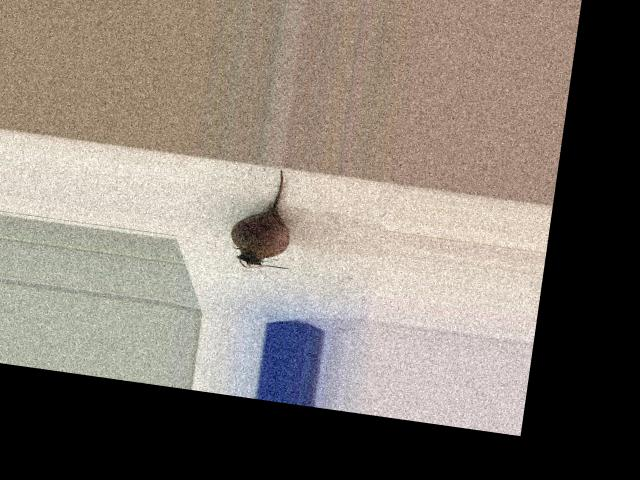beet: (227, 163, 304, 274)
